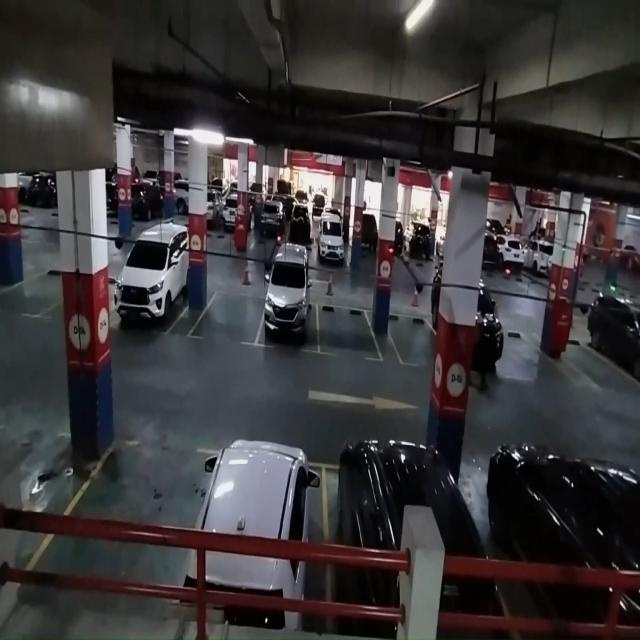empty: (188, 285, 262, 347), (317, 301, 373, 358), (389, 313, 436, 368)
occupied: (324, 442, 460, 556), (199, 446, 324, 540), (115, 229, 186, 334), (261, 272, 319, 353)
